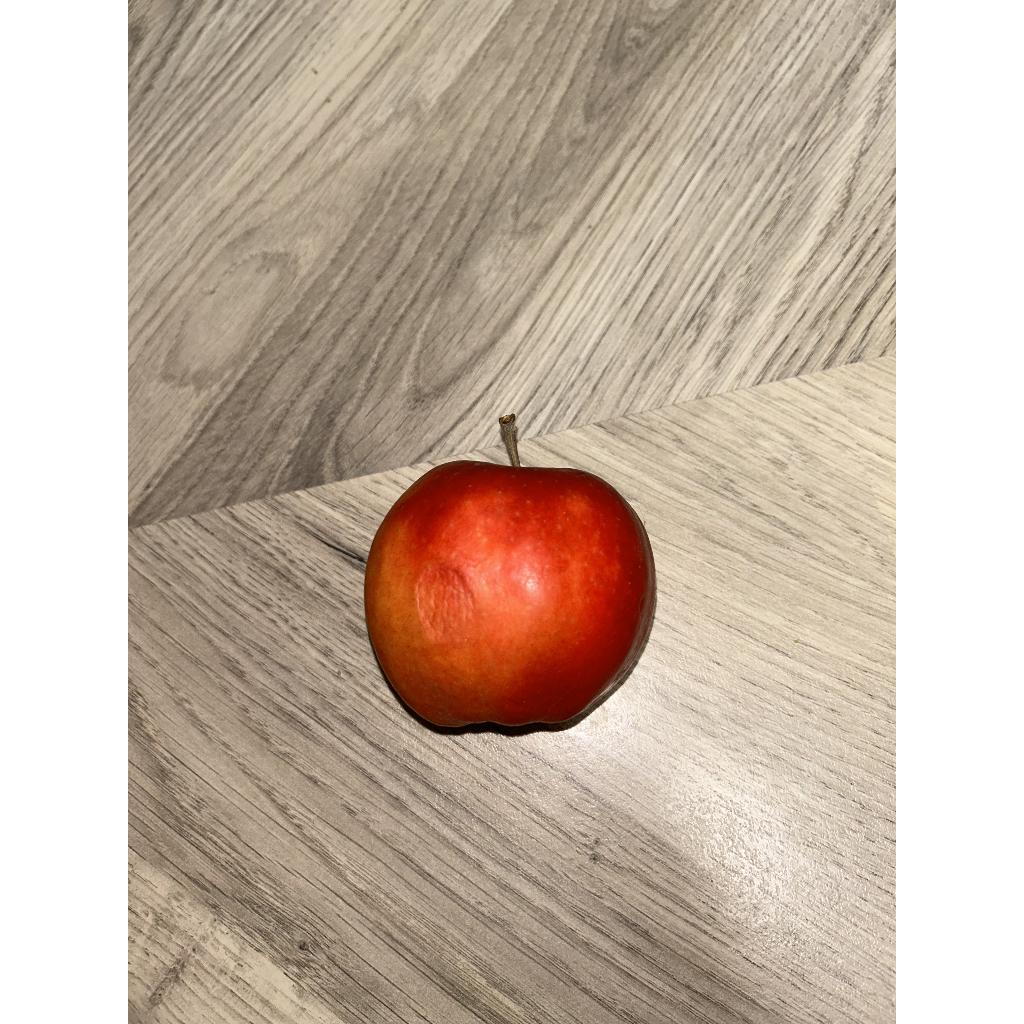apple: (364, 414, 656, 728)
